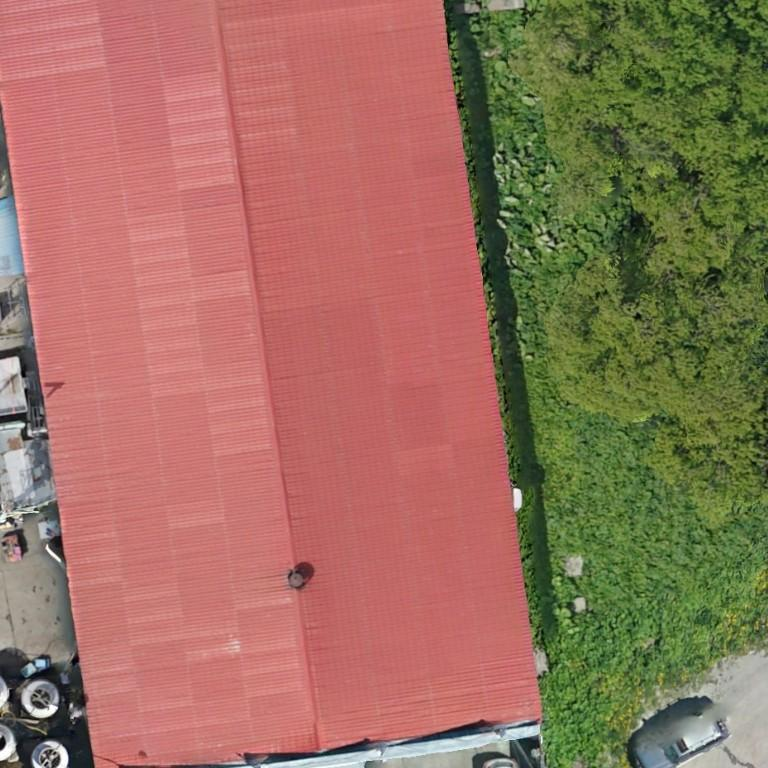hogweed: (495, 362, 767, 767)
